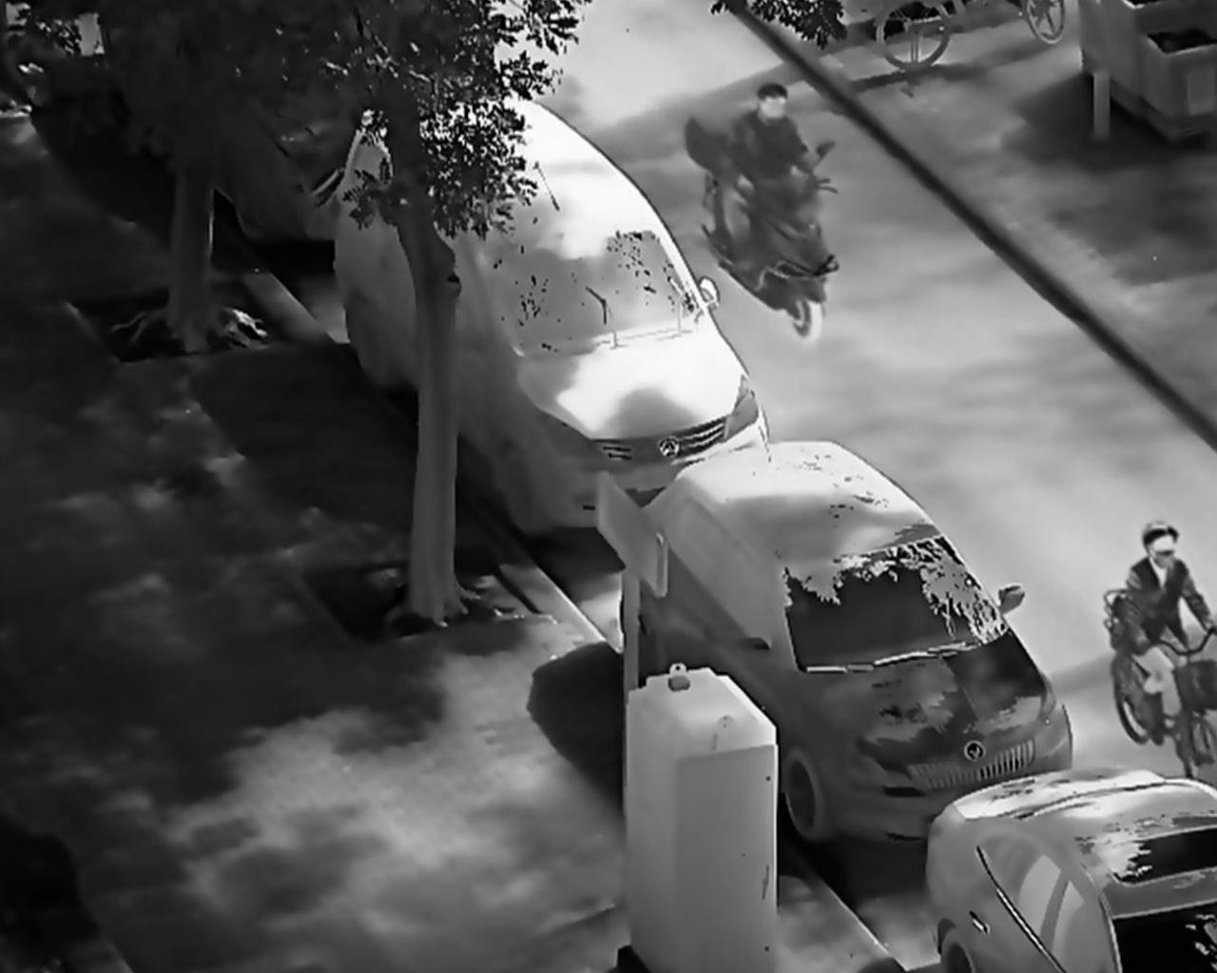person: (1109, 513, 1217, 746), (715, 80, 831, 276)
